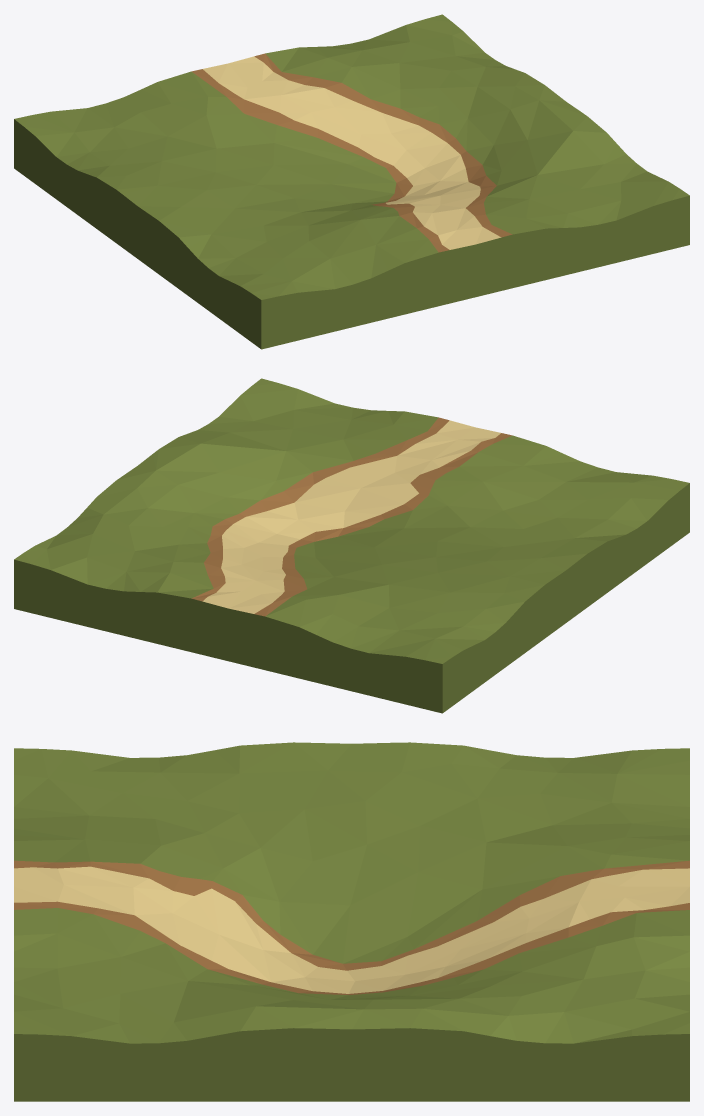
The model's file is Terrian_Road_Straight_Flat-04.fbx.
3 views of the same model, one above another, from view 1: azimuth 30°, elevation 25°; view 2: azimuth 150°, elevation 25°; view 3: azimuth 270°, elevation 25° (orthographic). The views are drawn at different scales.
Visible parts, largest first — view 1: Terrian_Road_Straight_Flat-04; view 2: Terrian_Road_Straight_Flat-04; view 3: Terrian_Road_Straight_Flat-04.
Boxes of the visible parts, x1,y1,x2,y2 form: Terrian_Road_Straight_Flat-04: (14,14,689,349); Terrian_Road_Straight_Flat-04: (14,378,689,713); Terrian_Road_Straight_Flat-04: (14,742,689,1101).
Size of the model in its own units: 3600 by 453 by 3600.
1 material, 1 textured.
